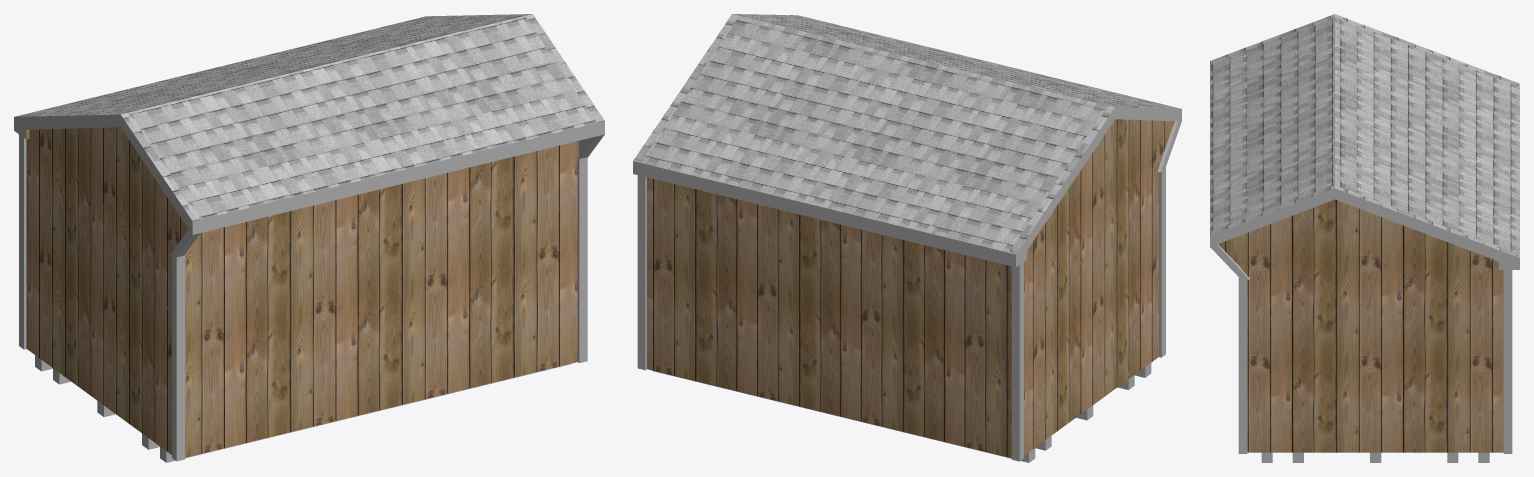
The model's file is Quaker Sheds_8x12.obj.
The picture shows the model from 3 angles, left to right: view 1: azimuth 30°, elevation 25°; view 2: azimuth 150°, elevation 25°; view 3: azimuth 270°, elevation 25°; orthographic projection. The views are drawn at different scales.
Parts seen in each view (by area): view 1: Shed, Roof, Sides, Trim, Floor; view 2: Shed, Roof, Sides, Trim, Floor; view 3: Shed, Roof, Sides, Trim, Floor.
Part boxes in pixels (x1,y1,x2,y2): Shed: (26, 127, 578, 457); Roof: (14, 14, 604, 221); Sides: (14, 114, 604, 259); Trim: (19, 134, 587, 461); Floor: (35, 355, 571, 462); Shed: (647, 119, 1174, 457); Roof: (633, 14, 1181, 254); Sides: (633, 107, 1181, 267); Trim: (637, 167, 1165, 461); Floor: (652, 363, 1151, 462); Shed: (1218, 199, 1503, 452); Roof: (1210, 14, 1519, 257); Sides: (1210, 188, 1519, 280); Trim: (1238, 270, 1512, 453); Floor: (1261, 452, 1489, 462).
Size of the model in its own units: 3.72 by 2.74 by 2.79.
